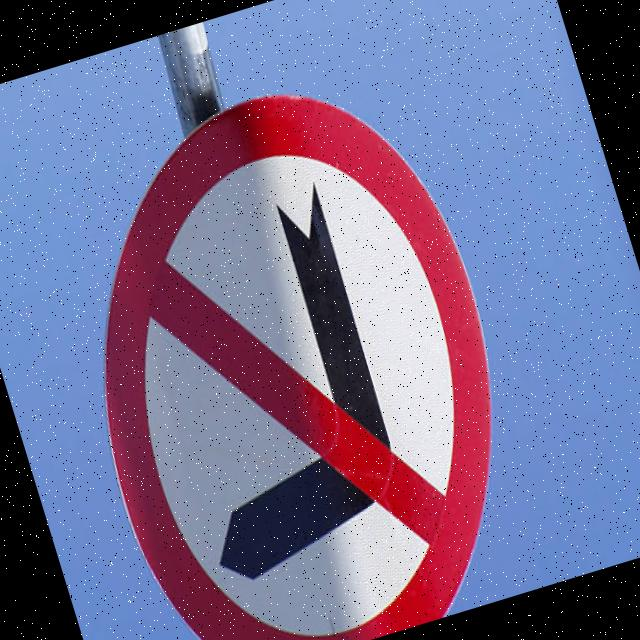do_not_turn_right: (8, 41, 571, 640)
